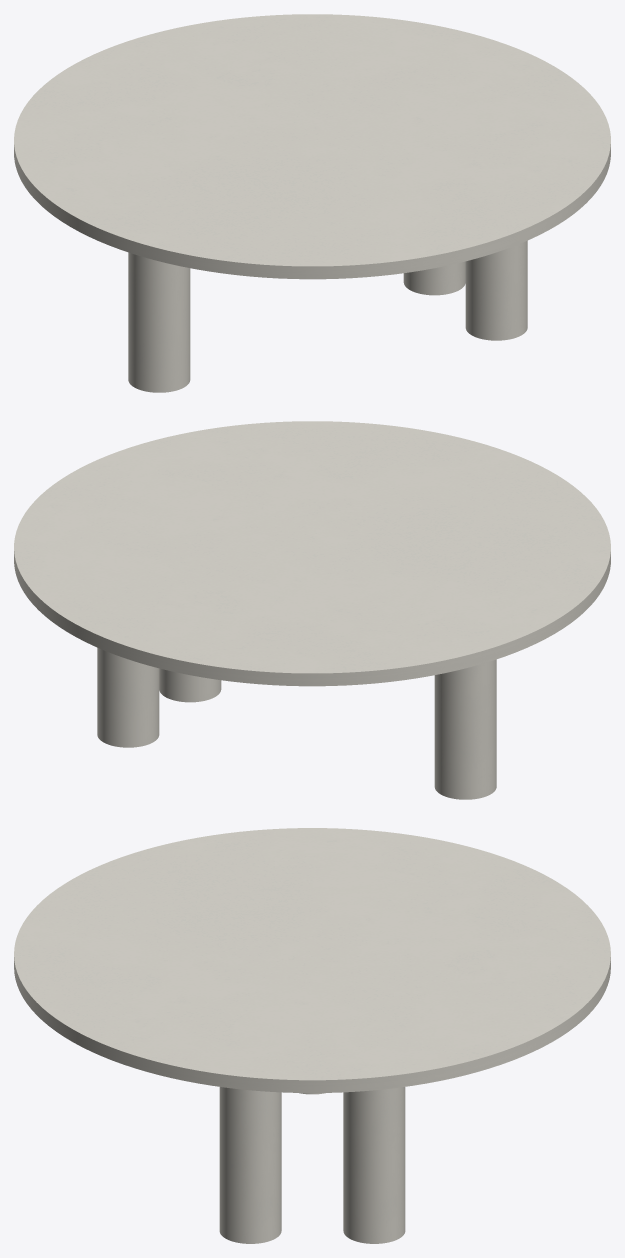
File: pale_round_standard_cylinder.glb
3 renders of one model, top to bottom at view 1: azimuth 30°, elevation 25°; view 2: azimuth 150°, elevation 25°; view 3: azimuth 270°, elevation 25°, orthographic.
Visible parts, largest first — view 1: standard_round, cylinder; view 2: standard_round, cylinder; view 3: standard_round, cylinder.
Boxes of the visible parts, <box> form: standard_round: <box>14,14,610,279</box>; cylinder: <box>128,240,527,392</box>; standard_round: <box>14,421,610,686</box>; cylinder: <box>97,647,496,799</box>; standard_round: <box>14,828,610,1092</box>; cylinder: <box>219,1087,405,1243</box>.
Size of the model in its own units: 6.75 by 2.52 by 6.75.
1 material, 1 textured.
